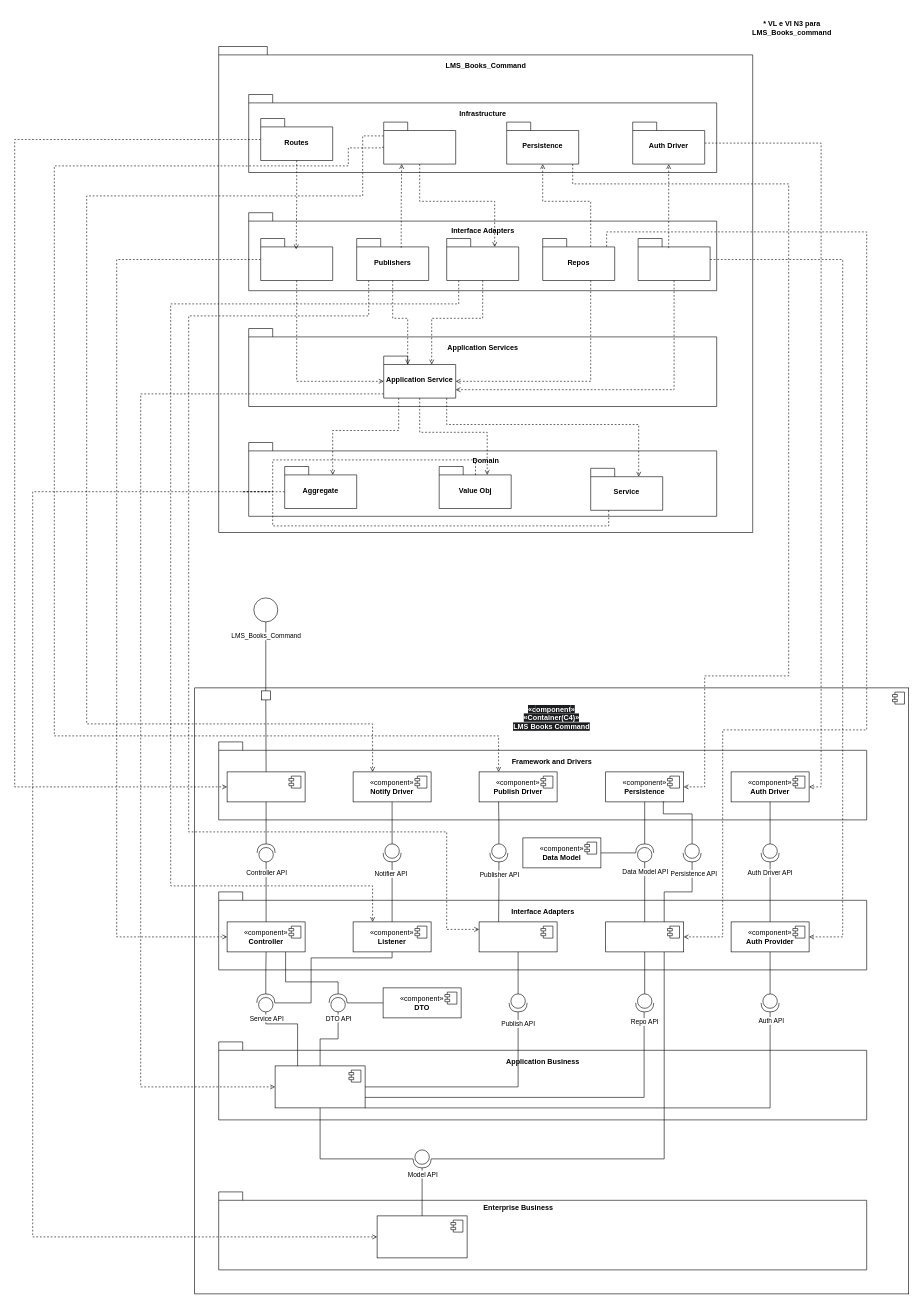
Some shapes in this 919 by 1304 pixel diagram are drawn without their labels. Here are the shapes that lost their labels. From the top down, the centre of each, then its label:
At point (419, 143): "Message Broker Driver".
At point (296, 259): "Controllers".
At point (482, 259): "Listeners".
At point (674, 259): "Auth Provider".
At point (265, 786): "«component» Routing".
At point (517, 936): "«component» Publisher".
At point (644, 936): "«component» Repo".
At point (319, 1086): "«component» Application Service".
At point (421, 1236): "«component» Domain".
